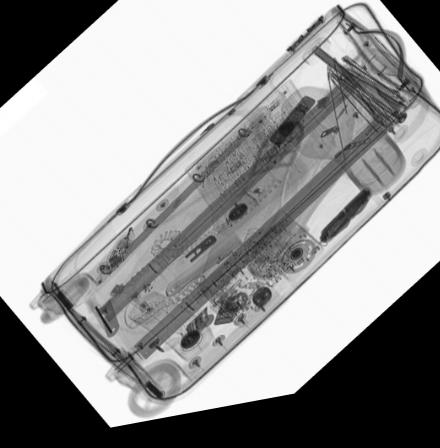Knife: (316, 199, 373, 257), (101, 301, 120, 339)
